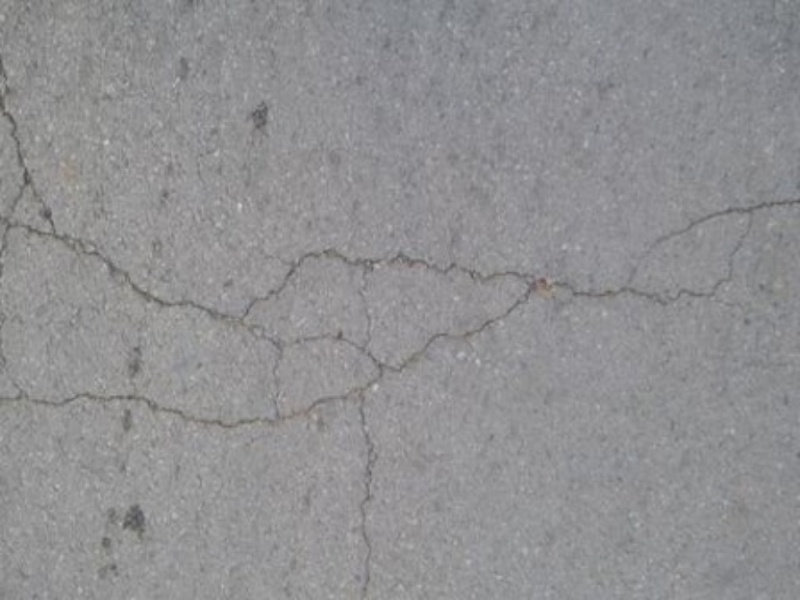crack: (1, 92, 395, 372), (1, 276, 534, 413), (541, 191, 796, 314), (225, 236, 540, 326)
